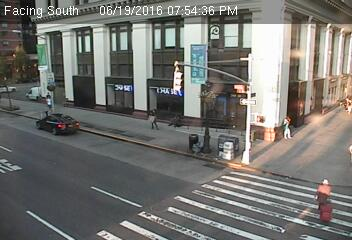neg: (201, 129, 220, 154), (304, 124, 320, 146), (316, 107, 332, 127), (280, 146, 294, 165), (321, 205, 333, 222), (195, 132, 203, 143), (190, 146, 198, 156)
pos: (307, 173, 339, 216), (276, 112, 299, 143), (145, 105, 162, 128), (43, 95, 55, 110)
